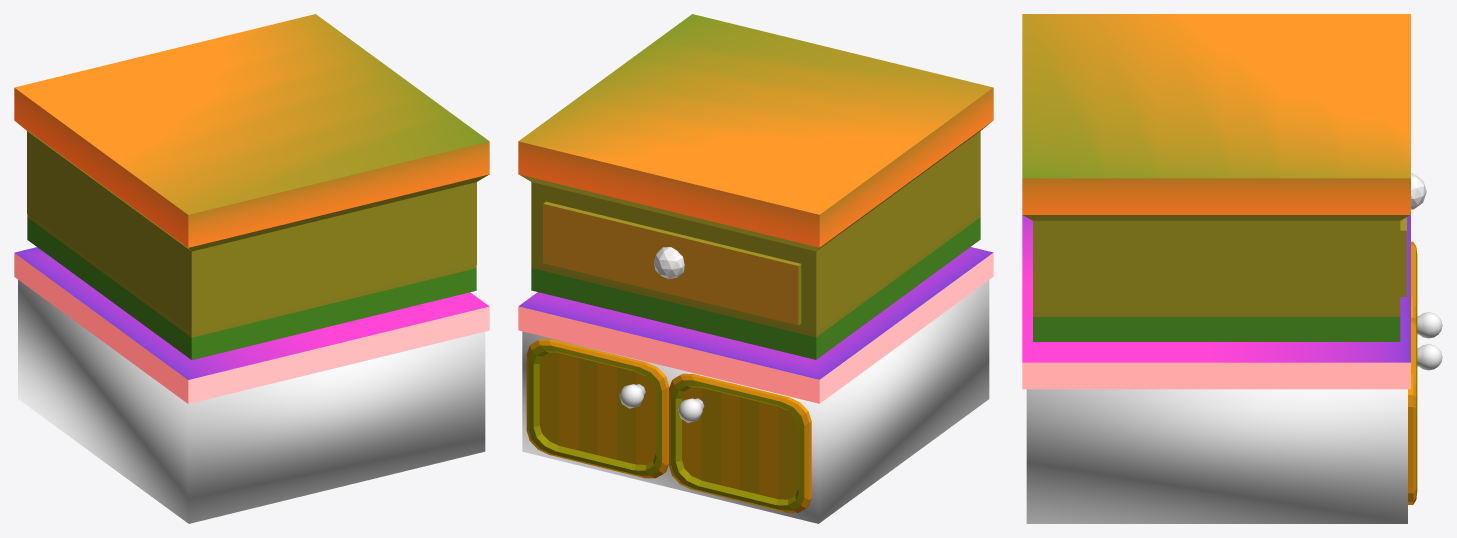
File: Tray Counter.fbx
3 renders of one model, left to right at view 1: azimuth 30°, elevation 25°; view 2: azimuth 150°, elevation 25°; view 3: azimuth 270°, elevation 25°, orthographic. The views are drawn at different scales.
Parts seen in each view (by area): view 1: Base, Counter, Top, Counter_Top, Counter_Surface; view 2: Base, Top, Counter_Doors, Counter, Counter_Top, Counter_Surface, Handles, Handle; view 3: Top, Base, Counter, Counter_Top, Counter_Surface, Counter_Doors, Handles.
Part boxes in pixels (x1,y1,x2,y2): Base: [14, 88, 489, 359]; Counter: [18, 280, 485, 523]; Top: [14, 14, 489, 214]; Counter_Top: [14, 253, 489, 403]; Counter_Surface: [14, 247, 489, 379]; Base: [518, 88, 993, 359]; Top: [519, 14, 993, 214]; Counter_Doors: [526, 339, 811, 512]; Counter: [522, 280, 989, 523]; Counter_Top: [518, 253, 993, 403]; Counter_Surface: [519, 247, 993, 379]; Handles: [619, 384, 704, 422]; Handle: [654, 247, 684, 279]; Top: [1022, 14, 1410, 178]; Base: [1022, 178, 1410, 341]; Counter: [1026, 389, 1407, 523]; Counter_Top: [1022, 362, 1410, 389]; Counter_Surface: [1022, 215, 1410, 362]; Counter_Doors: [1408, 241, 1417, 504]; Handles: [1417, 312, 1442, 370].
Size of what is drawn, in the model's own units: 100 by 98.56 by 108.
